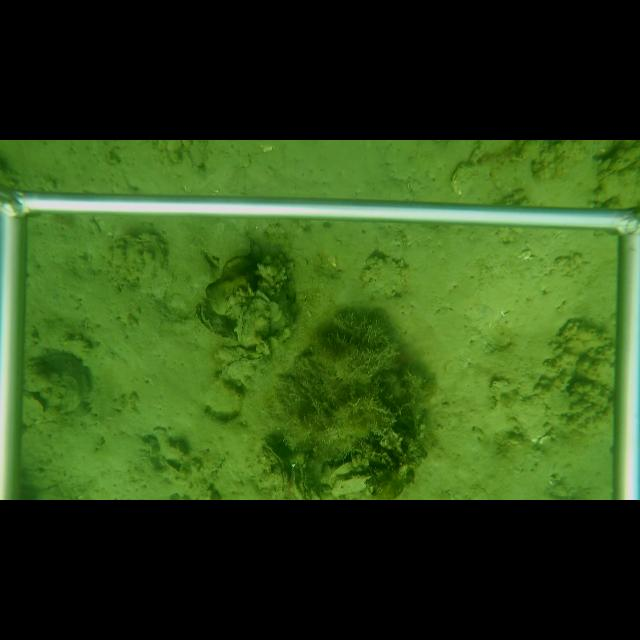Oyster-Closed: (233, 298, 272, 349), (447, 162, 492, 195), (329, 474, 375, 499)
Oyster-Open: (190, 302, 232, 341), (259, 444, 288, 498)
